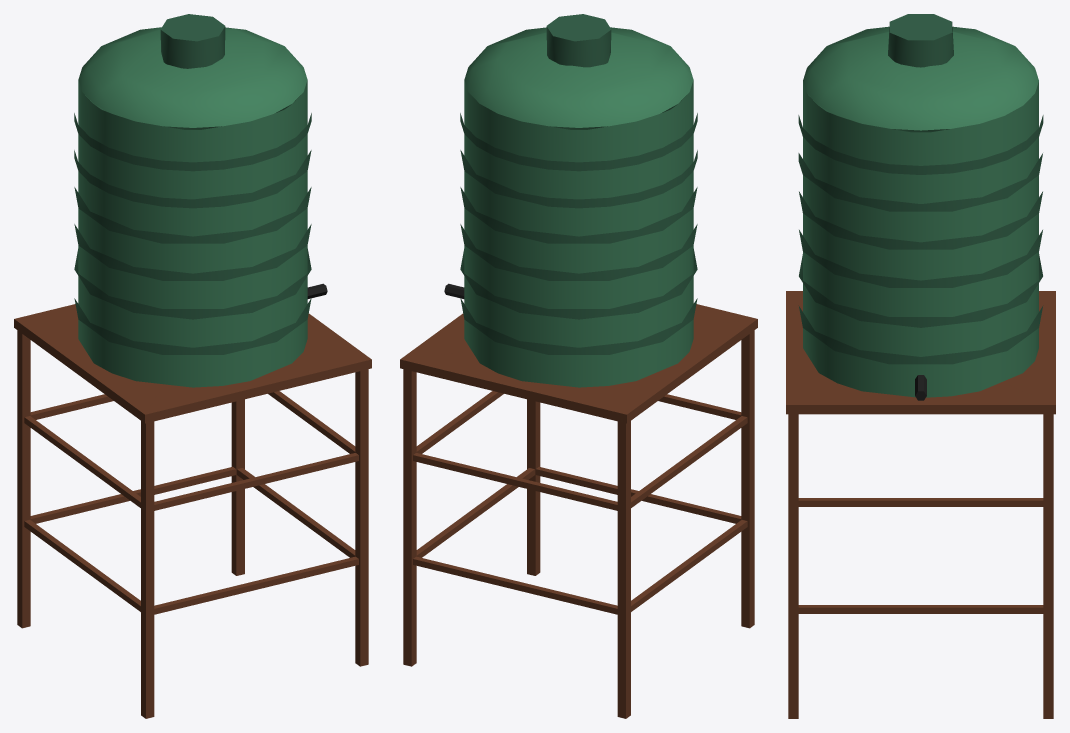
File: water_tank_stand_lod1.glb
3 views of the same model, side by side, from view 1: azimuth 30°, elevation 25°; view 2: azimuth 150°, elevation 25°; view 3: azimuth 270°, elevation 25° (orthographic). The views are drawn at different scales.
Parts seen in each view (by area): view 1: water_tank_stand; view 2: water_tank_stand; view 3: water_tank_stand.
Boxes of the visible parts, <box> form: water_tank_stand: <box>14,14,371,718</box>; water_tank_stand: <box>400,14,757,718</box>; water_tank_stand: <box>786,14,1055,718</box>.
Bounding box in the file's own units: 1.73 × 4.16 × 1.6.
1 material, 1 textured.
